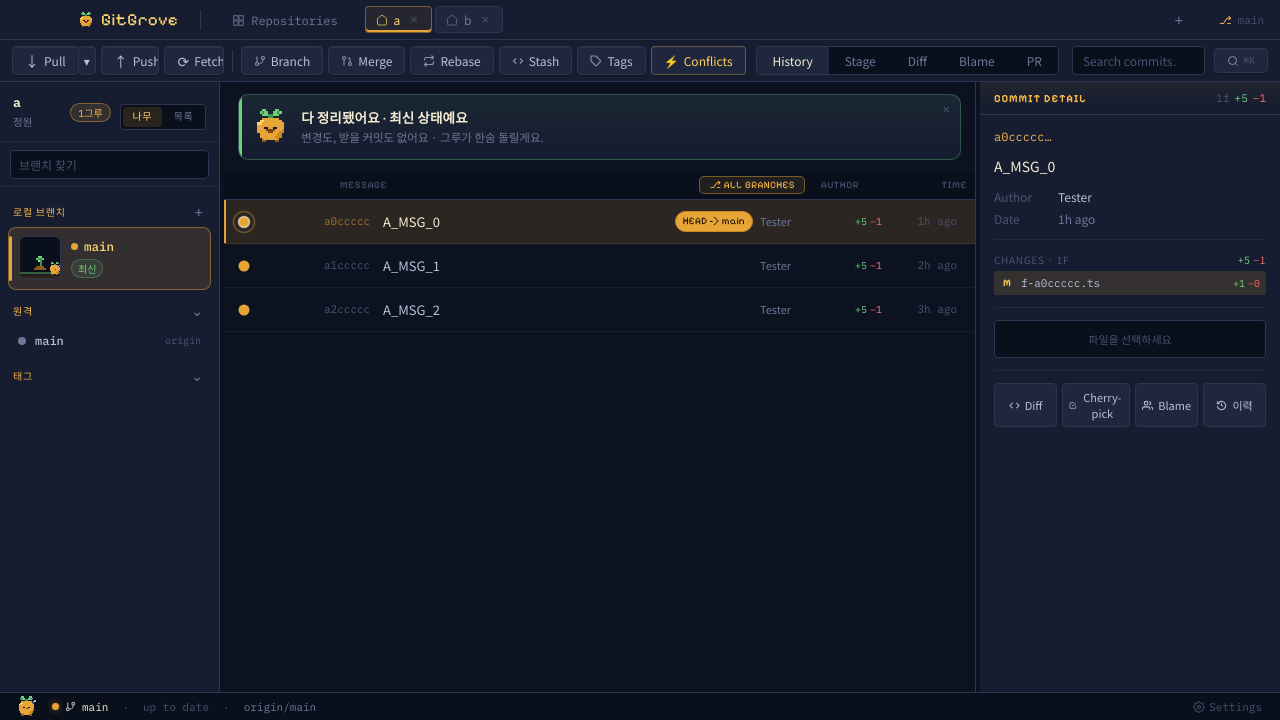
Scenario: 리포 전환 시 뷰 선택 리셋 (변경1) › (a) 다른 path 리포로 전환 시 selIdx가 0으로 리셋되고 새 리포 커밋0을 로드한다
Click the text "A_MSG_2" at (411, 309), box [383,300,440,319]
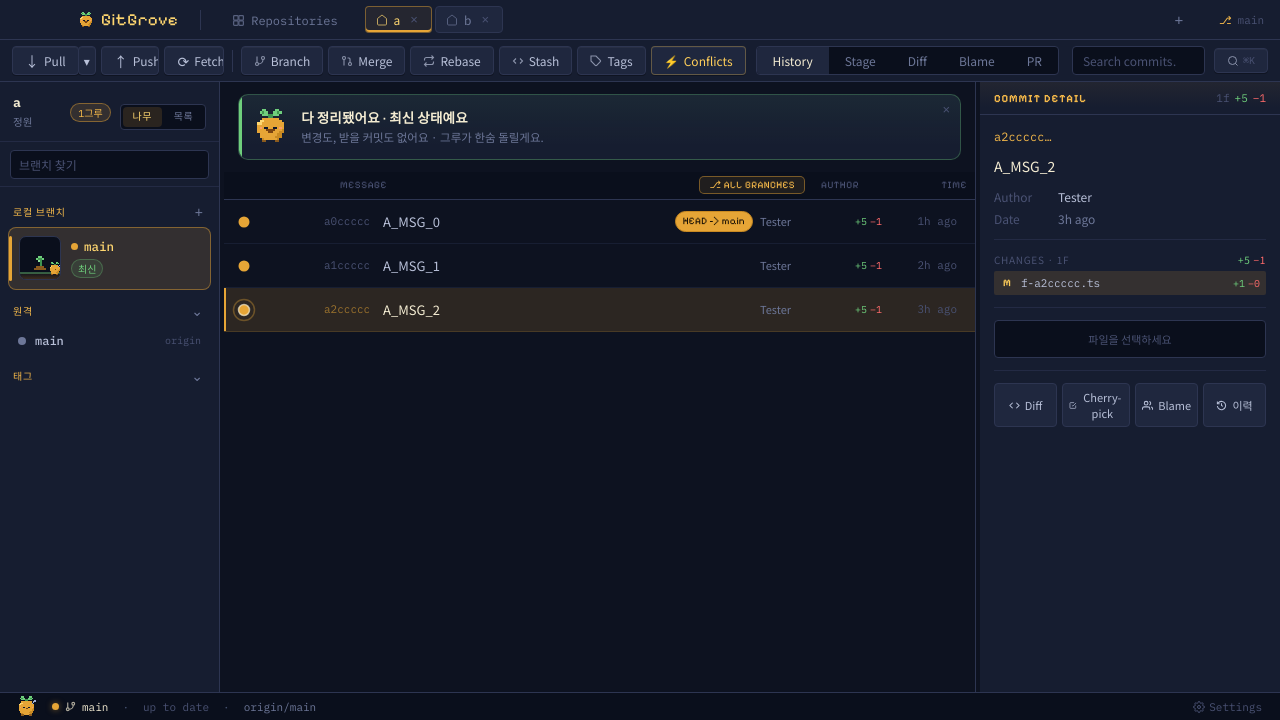
Click the text "b" at (468, 20), box [464,11,471,28]
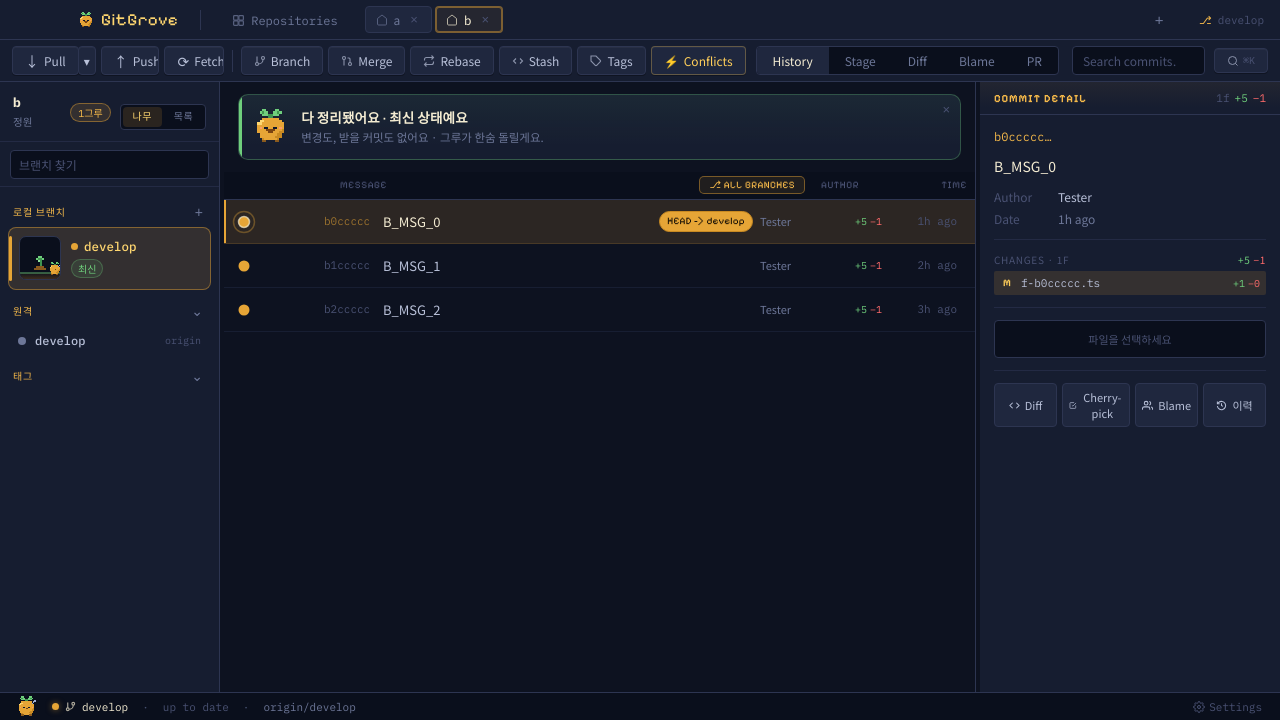
Result: the text "B_MSG_0" in the row of "HEAD -> develop" is shown at [383,212,441,231]
Result: the text "A_MSG_0" is gone
Result: the text "A_MSG_2" is gone
